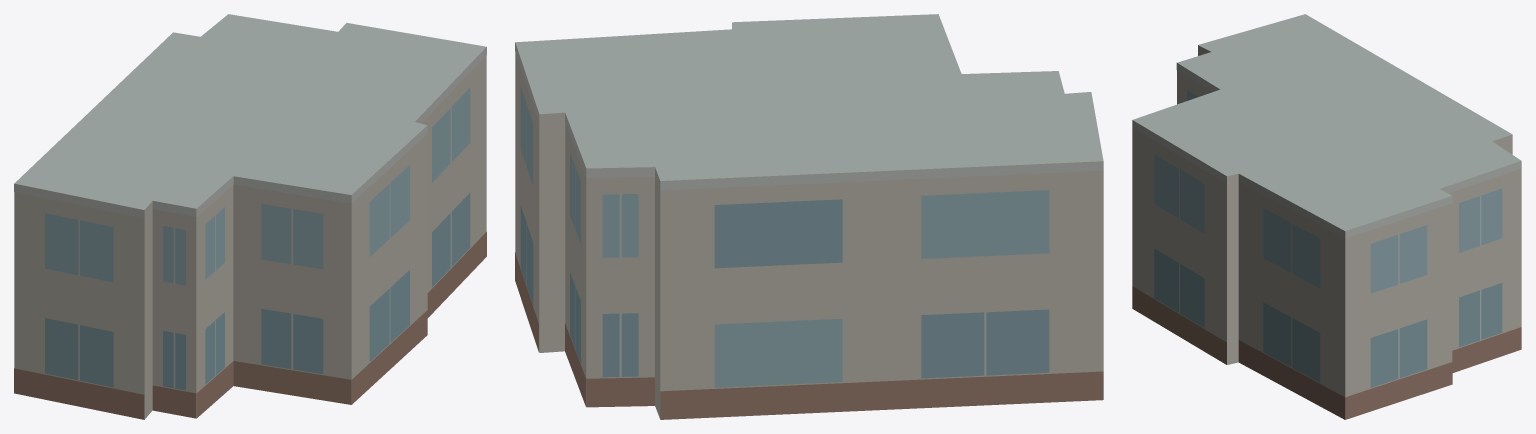
File: survey-upis-32604431.glb
3 views of the same model, side by side, from view 1: azimuth 30°, elevation 25°; view 2: azimuth 150°, elevation 25°; view 3: azimuth 270°, elevation 25° (orthographic). The views are drawn at different scales.
Parts seen in each view (by area): view 1: survey-upis-32604431.tmp; view 2: survey-upis-32604431.tmp; view 3: survey-upis-32604431.tmp.
Part boxes in pixels (left/top/right/bottom): survey-upis-32604431.tmp: left=14, top=14, right=486, bottom=419; survey-upis-32604431.tmp: left=515, top=14, right=1103, bottom=419; survey-upis-32604431.tmp: left=1132, top=14, right=1521, bottom=419.
Size of the model in its own units: 15.06 by 6.1 by 11.41.
